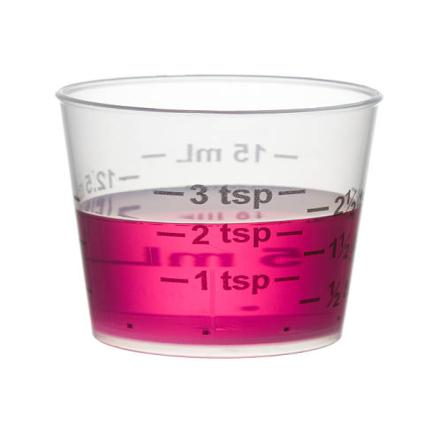container: (57, 75, 382, 357)
fluid: (80, 206, 359, 342)
fluid-surface: (82, 184, 359, 221)
